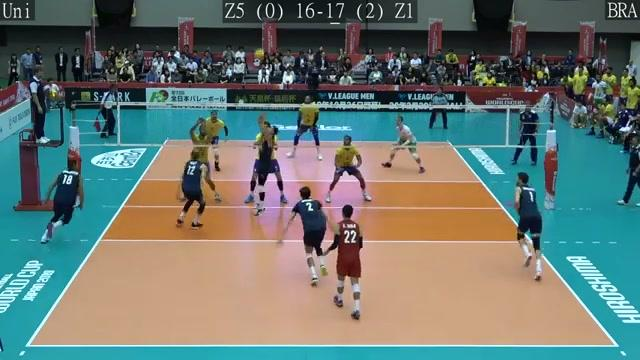ball: (252, 47, 266, 60)
